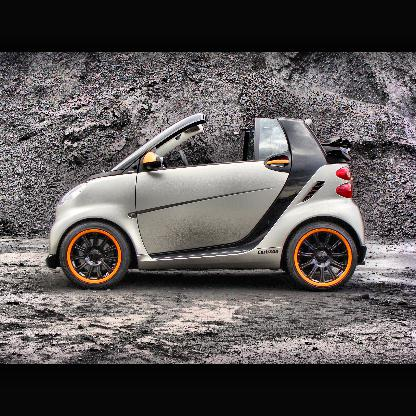smart fortwo Convertible 2012: (46, 110, 369, 292)
